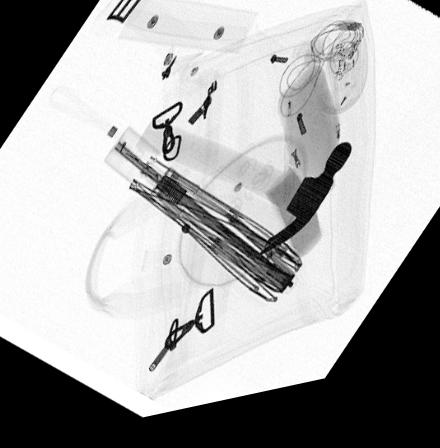Hammer: (134, 123, 356, 269)
